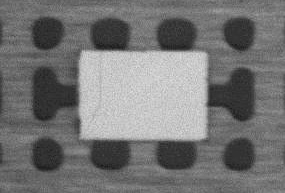DIE_CRACK: (88, 52, 103, 131)
